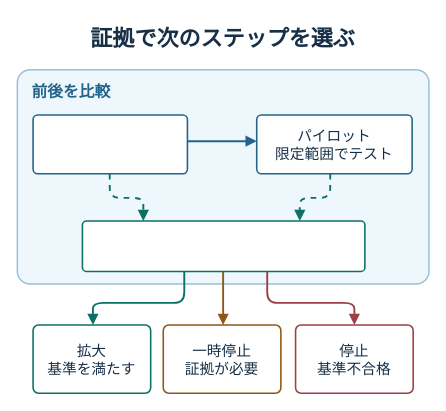
Image size: 446x411. Some labels were removed from this diagram. The shapes that lost their labels are listed below. From the top down, each one's centre as x and y in pixels, then its label:
At pixel 110 144: "ベースライン 現状を測定".
At pixel 223 246: "KPI と ROI 一貫した定義を使う".
